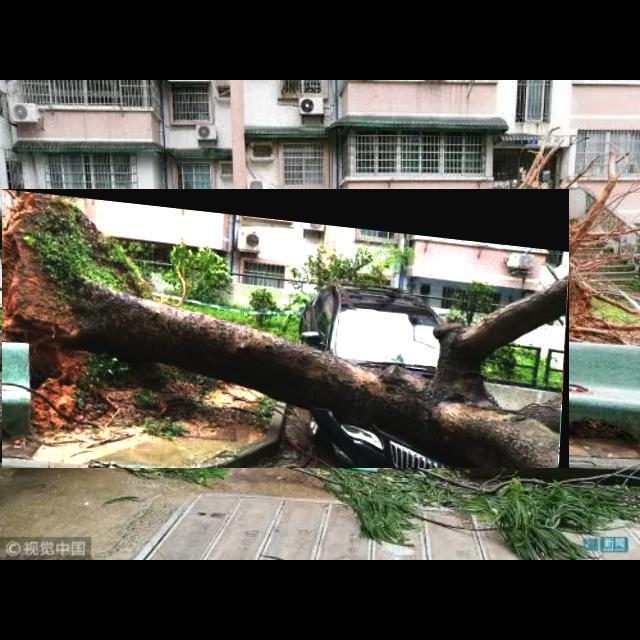fallen_tree: (2, 189, 570, 469)
